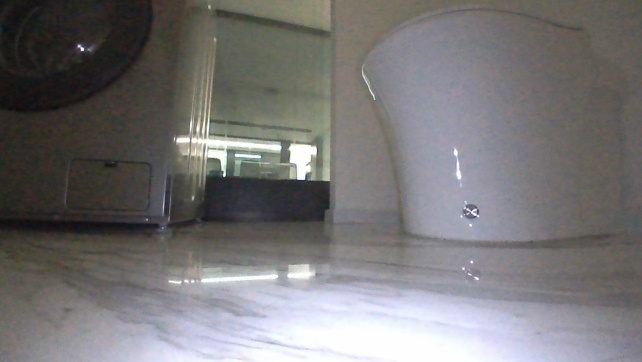toilet: (359, 4, 625, 244)
washing_machine: (0, 1, 218, 232)
